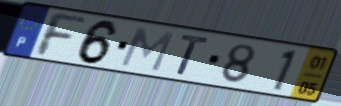1: (270, 48, 300, 93)
6: (74, 19, 122, 66)
8: (219, 43, 260, 85)
F: (34, 9, 90, 59)
M: (117, 26, 177, 74)
T: (175, 33, 212, 78)
